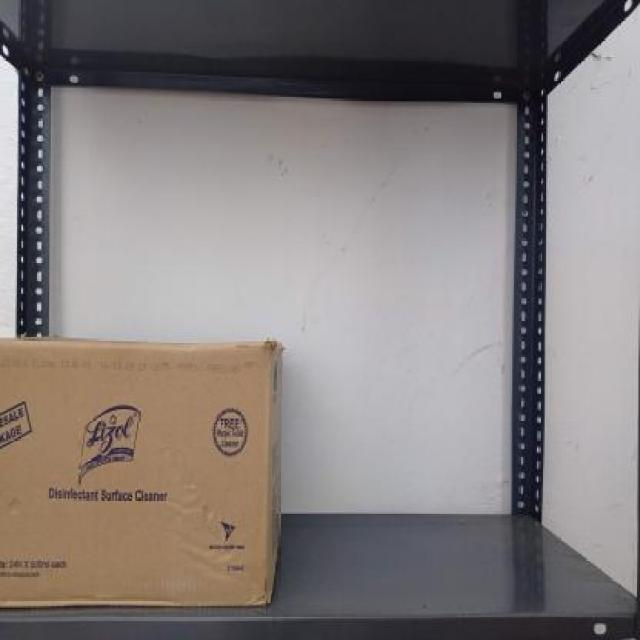box: (0, 343, 275, 609)
